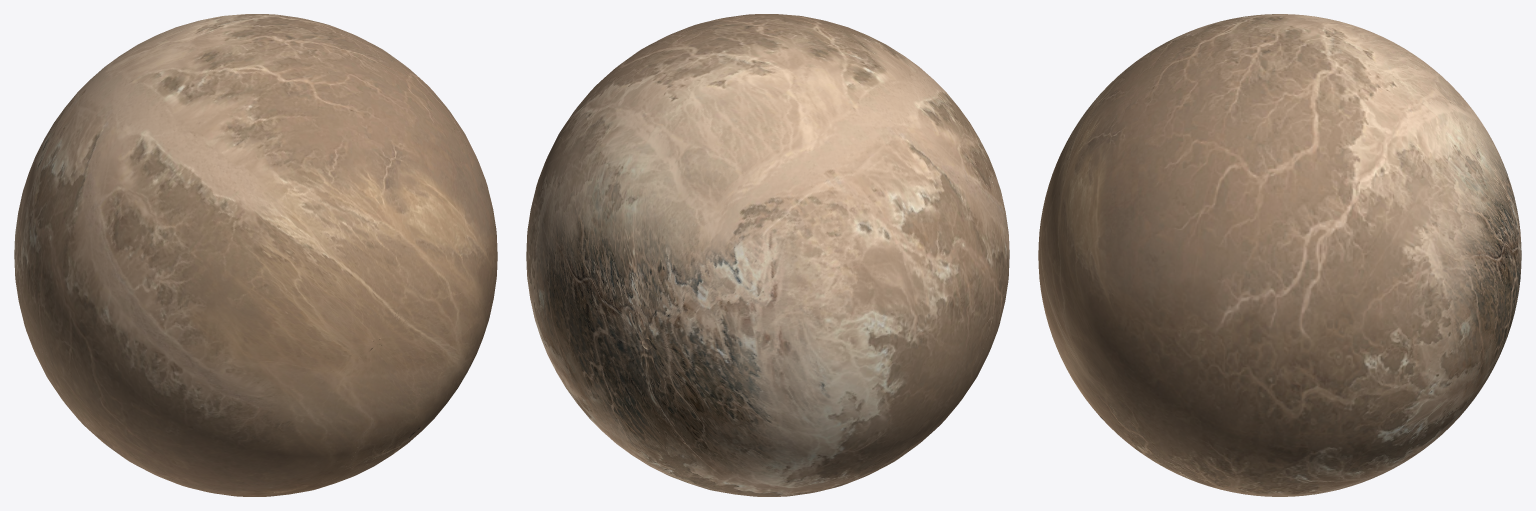
The model's file is planet_offset_down.obj.
3 views of the same model, side by side, from view 1: azimuth 30°, elevation 25°; view 2: azimuth 150°, elevation 25°; view 3: azimuth 270°, elevation 25° (orthographic).
Visible parts, largest first — view 1: Plane.002; view 2: Plane.002; view 3: Plane.002.
Part boxes in pixels (bbox=[...]): Plane.002: bbox=[14, 14, 497, 496]; Plane.002: bbox=[526, 14, 1009, 496]; Plane.002: bbox=[1038, 14, 1521, 496].
Size of the model in its own units: 5.21 by 5.21 by 5.21.
Materials: 1 (1 with a texture image).
